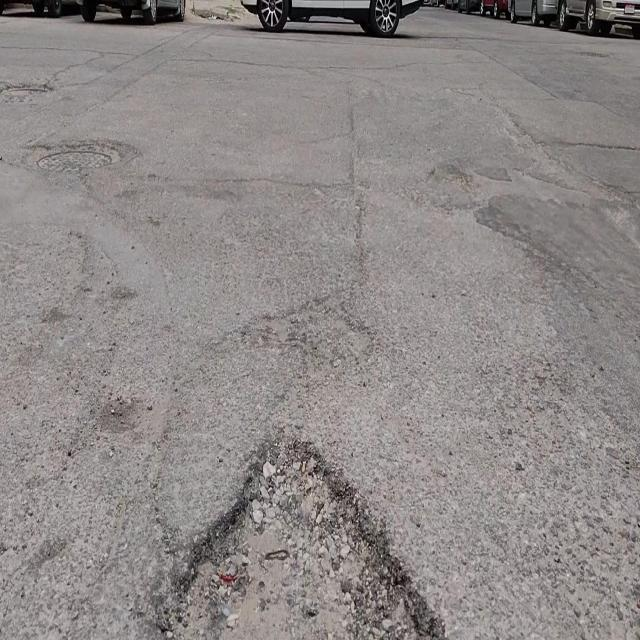Pothole: (147, 433, 449, 639)
